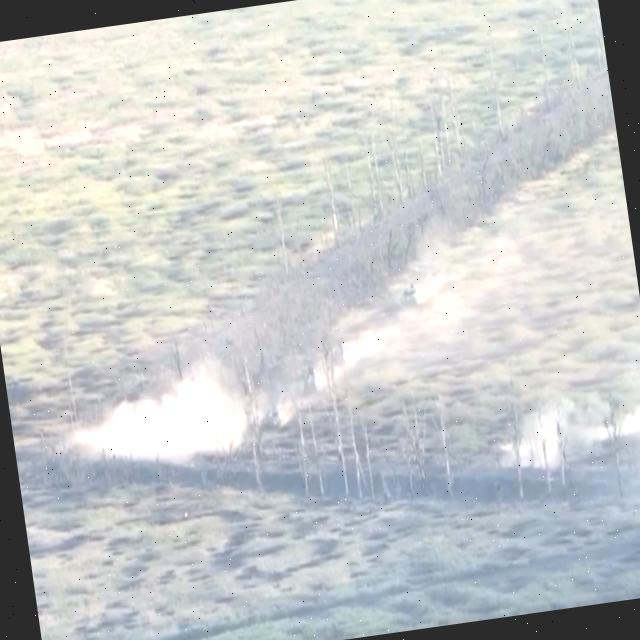APC: (301, 364, 329, 400), (328, 339, 355, 370)
MBT: (395, 279, 431, 312), (257, 405, 286, 441)
